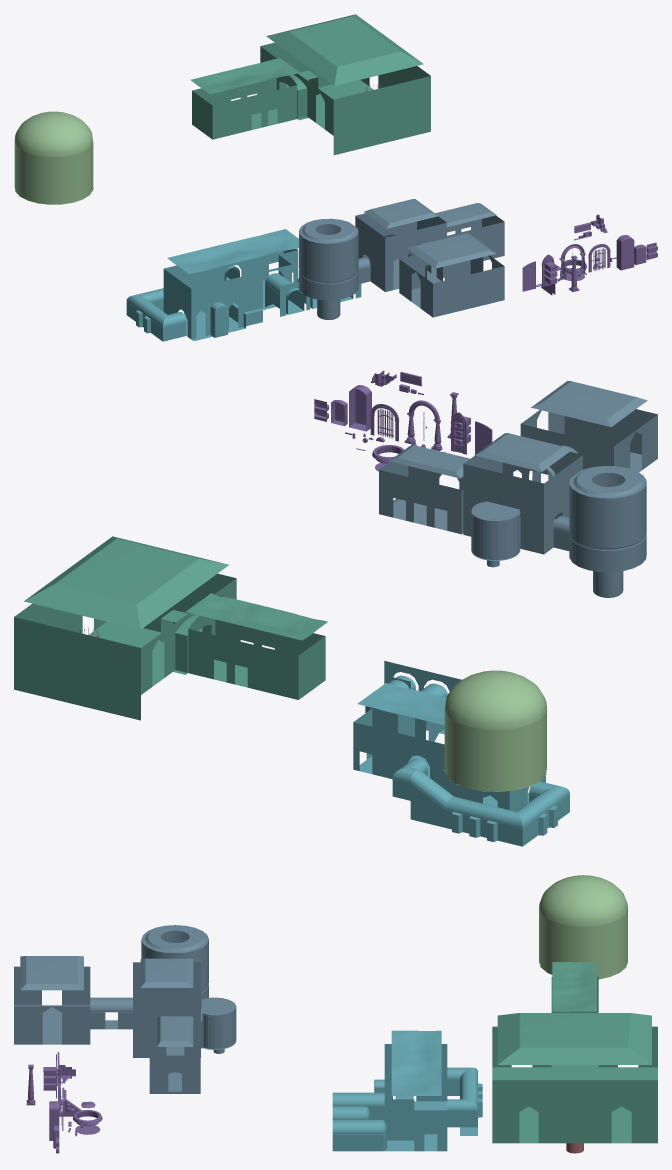
File: cmc_allfloors_cut.fbx
3 views of the same model, one above another, from view 1: azimuth 30°, elevation 25°; view 2: azimuth 150°, elevation 25°; view 3: azimuth 270°, elevation 25° (orthographic). The views are drawn at different scales.
Visible parts, largest first — view 1: ceiling (×8), R_wall (×3), walls (×2), B_wall (×4), L_wall (×5), F_wall (×4), B_wall_01, floor_04, alcove_02, floor_02; view 2: ceiling (×9), L_wall (×5), walls (×3), F_wall (×4), B_wall (×4), R_wall (×2), ceiling_05, L_wall_03, floor_04, alcove_02, floor, hole (+1 smaller); view 3: ceiling (×13), F_wall (×2), walls (×3), R_wall (×4), L_wall (×3), floor_01 (×2), B_wall (×2), floor_04, R_wall_01, R_wall_02, floor, ceiling_05.
Boxes of the visible parts, box(x1,y1,x2,y2) form: ceiling (×8): box(14, 14, 496, 273); R_wall (×3): box(212, 76, 504, 260); walls (×2): box(14, 139, 358, 300); B_wall (×4): box(192, 46, 504, 317); L_wall (×5): box(163, 42, 432, 338); F_wall (×4): box(164, 66, 470, 314); B_wall_01: box(191, 264, 291, 339); floor_04: box(318, 80, 373, 99); alcove_02: box(616, 235, 634, 270); floor_02: box(184, 310, 245, 341); ceiling (×9): box(24, 381, 647, 729); L_wall (×5): box(14, 414, 657, 720); walls (×3): box(444, 472, 646, 791); F_wall (×4): box(14, 424, 613, 809); B_wall (×4): box(141, 409, 657, 699); R_wall (×2): box(144, 573, 324, 655); ceiling_05: box(410, 769, 512, 824); L_wall_03: box(410, 783, 504, 842); floor_04: box(89, 622, 160, 647); alcove_02: box(349, 385, 371, 431); floor: box(393, 499, 447, 530); hole: box(593, 571, 623, 597); ceiling (×13): box(20, 875, 651, 1134); F_wall (×2): box(149, 1055, 657, 1143); walls (×3): box(141, 909, 627, 1048); R_wall (×4): box(14, 996, 383, 1151); L_wall (×3): box(14, 962, 447, 1101); floor_01 (×2): box(384, 1065, 657, 1151); B_wall (×2): box(149, 1020, 657, 1067); floor_04: box(519, 1106, 631, 1143); R_wall_01: box(384, 1099, 414, 1140); R_wall_02: box(414, 1110, 447, 1151); floor: box(14, 1005, 90, 1044); ceiling_05: box(460, 1072, 477, 1101).
Bounding box in the file's own units: 623 × 263 × 758.
